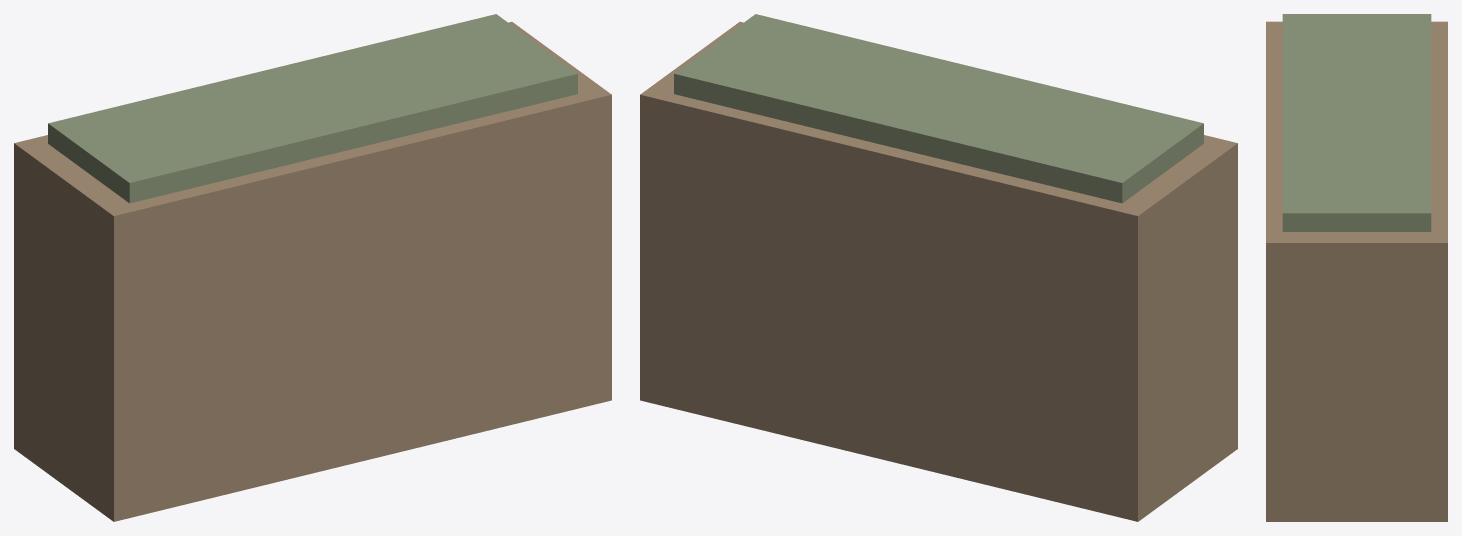
The model's file is iz2_district_ferry_queue_rail.glb.
The picture shows the model from 3 angles, left to right: view 1: azimuth 30°, elevation 25°; view 2: azimuth 150°, elevation 25°; view 3: azimuth 270°, elevation 25°; orthographic projection. The views are drawn at different scales.
Visible parts, largest first — view 1: body; view 2: body; view 3: body.
Boxes of the visible parts, left/top/right/bottom form: body: left=14, top=14, right=611, bottom=521; body: left=640, top=14, right=1237, bottom=521; body: left=1266, top=14, right=1447, bottom=521.
Bounding box in the file's own units: 1.55 × 0.9672 × 0.5362.
